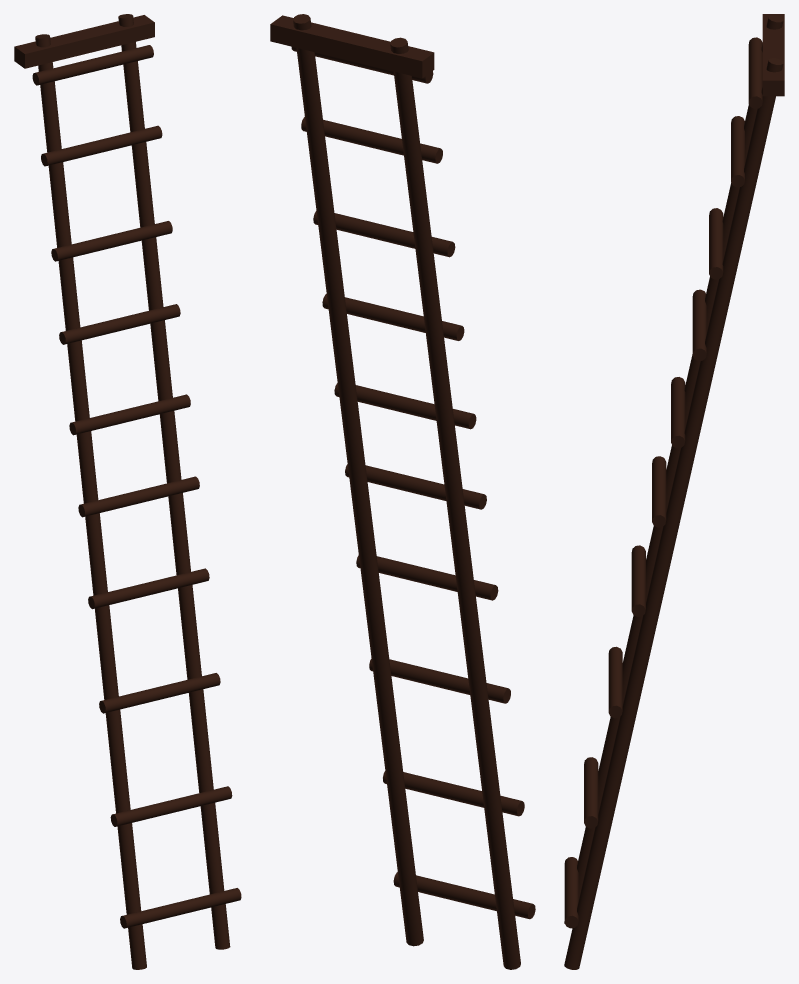
File: VOTV_ladder.fbx
3 views of the same model, side by side, from view 1: azimuth 30°, elevation 25°; view 2: azimuth 150°, elevation 25°; view 3: azimuth 270°, elevation 25° (orthographic). The views are drawn at different scales.
Visible parts, largest first — view 1: wooden_staris; view 2: wooden_staris; view 3: wooden_staris.
Part boxes in pixels (box(x1,y1,x2,y2)): wooden_staris: box(14, 14, 241, 969); wooden_staris: box(270, 14, 535, 969); wooden_staris: box(564, 14, 784, 969).
Bounding box in the file's own units: 1.07 × 6.78 × 1.49.
